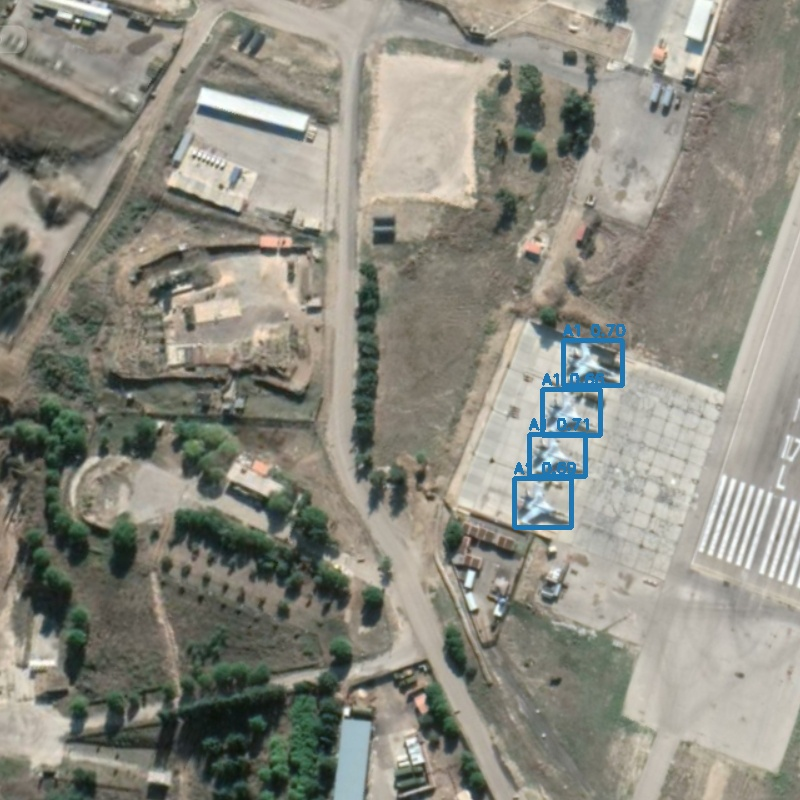A1: (514, 478, 571, 527), (542, 389, 600, 435), (563, 340, 622, 385), (529, 434, 585, 476)
